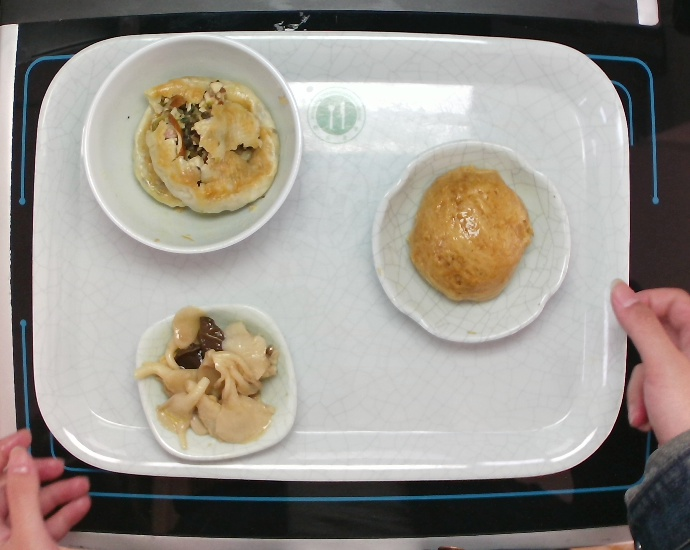JYsf-Ao_Yuan_Wan: (368, 136, 573, 345)
JYsf-Fan_Wan: (81, 31, 305, 256)
JYsf-Si_Fang_Die: (133, 300, 299, 463)
